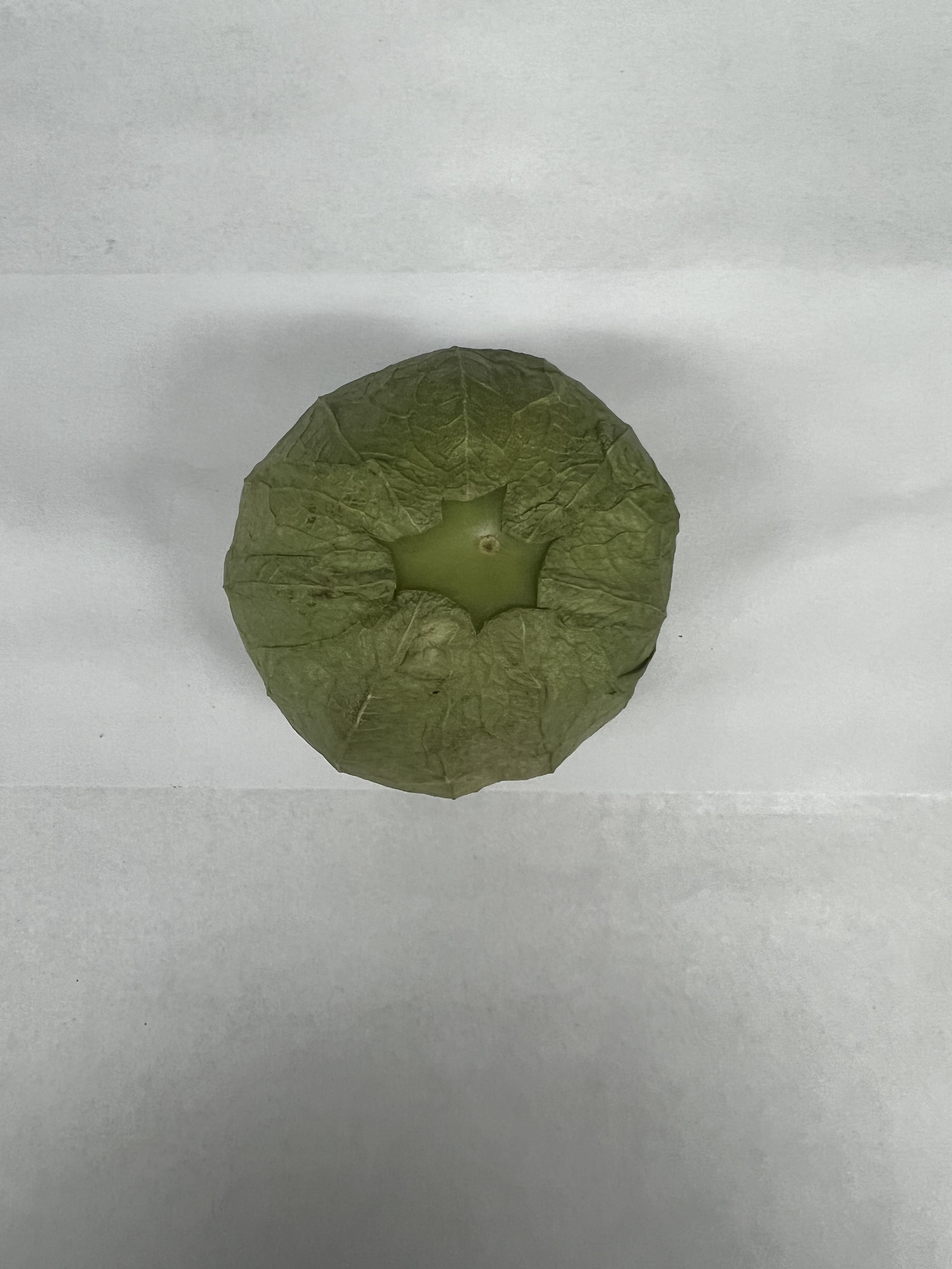produce: (223, 343, 684, 798)
